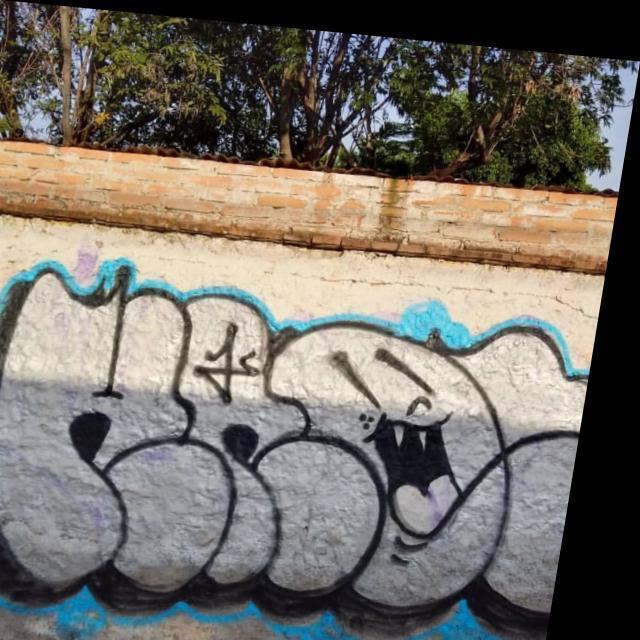-: (0, 270, 605, 640)
